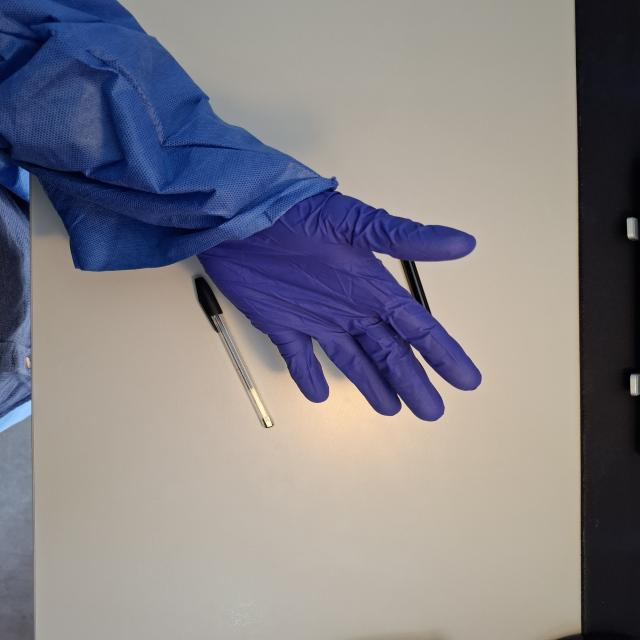glove_on: (193, 184, 486, 424)
